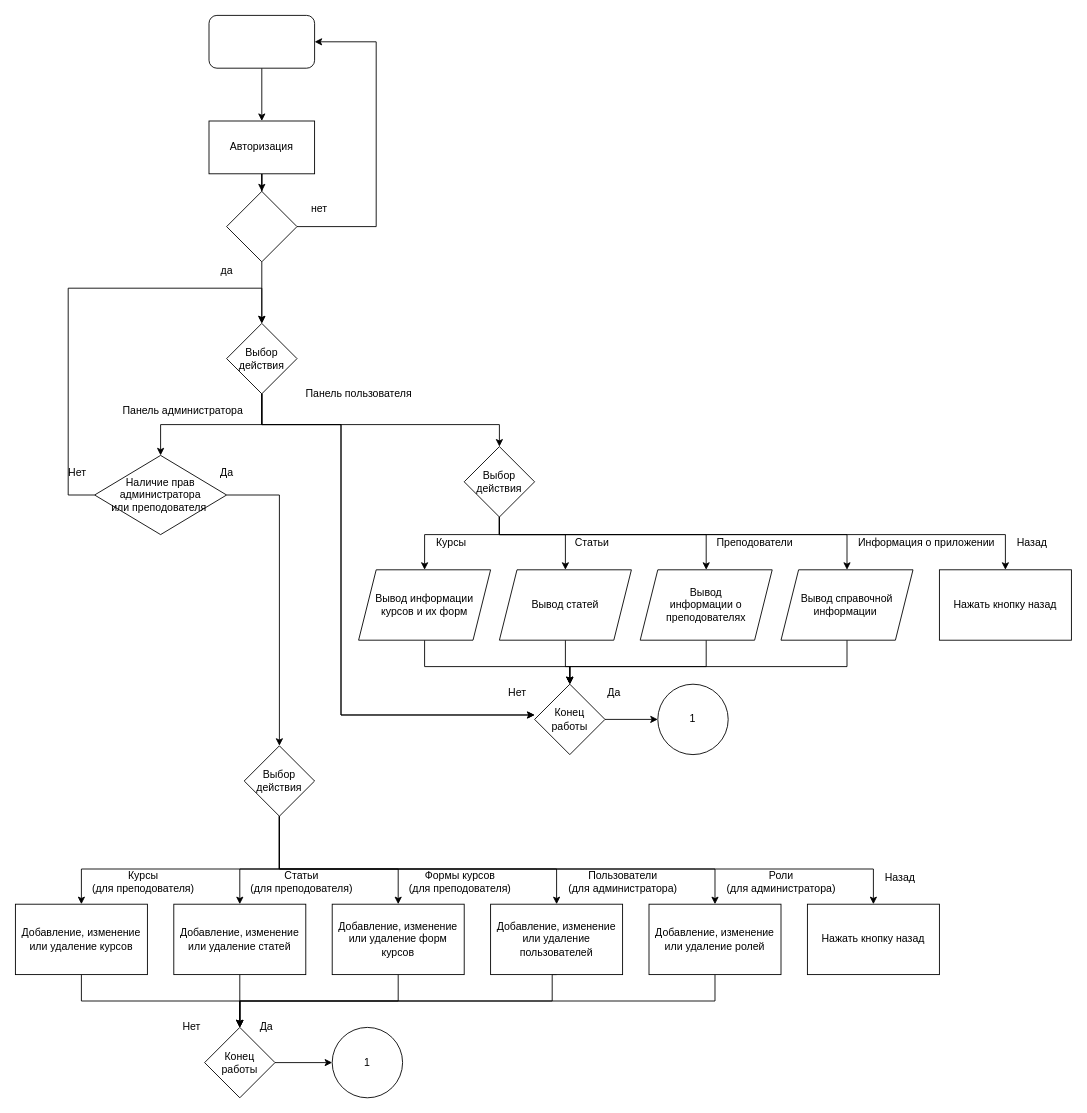
This 1087x1113 diagram has some shape labels left out. The shapes that lost their labels are listed below. From the top down, each one's centre as x and y in pixels, then its label:
At point 261,41: "Начало".
At point 261,226: "Введены корректные данные".
